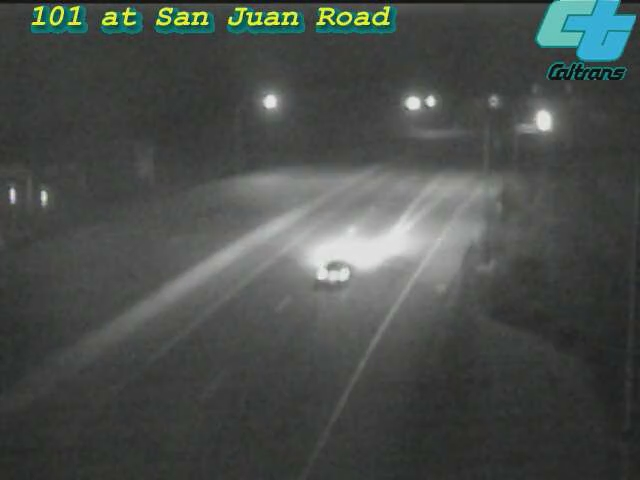vehicle: (294, 233, 374, 313), (496, 104, 546, 154), (517, 93, 567, 143)
